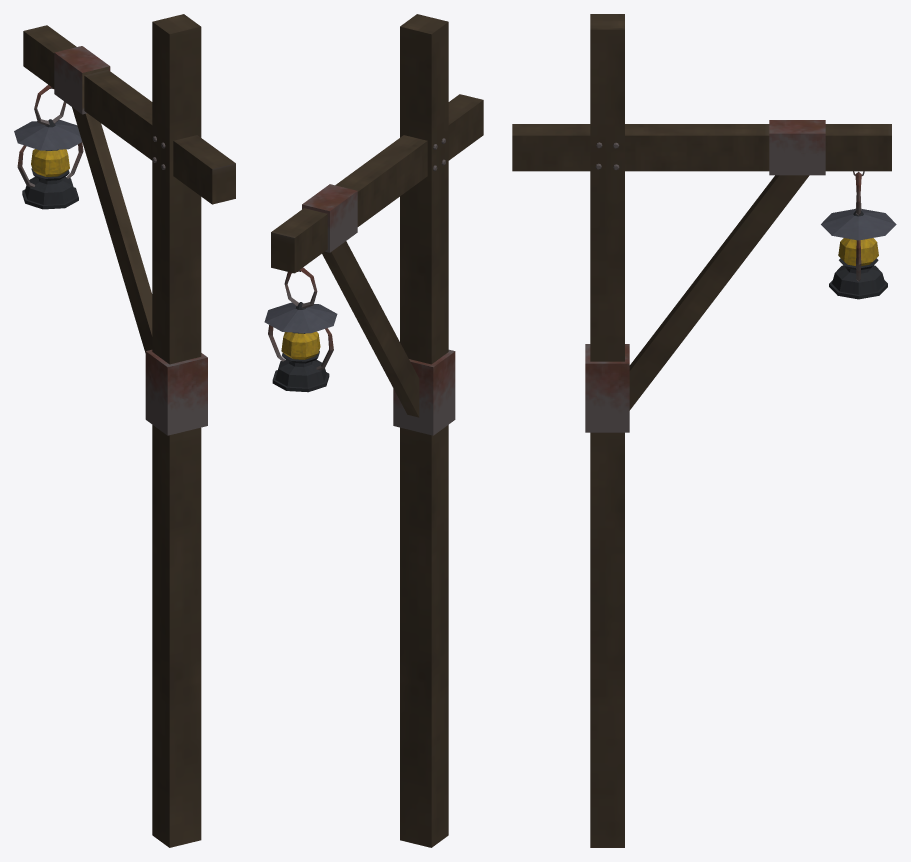
The model's file is LightPost.fbx.
The picture shows the model from 3 angles, left to right: view 1: azimuth 30°, elevation 25°; view 2: azimuth 150°, elevation 25°; view 3: azimuth 270°, elevation 25°; orthographic projection.
Parts seen in each view (by area): view 1: LightPost; view 2: LightPost; view 3: LightPost.
Boxes of the visible parts, left/top/right/bottom form: LightPost: left=14, top=14, right=235, bottom=847; LightPost: left=264, top=14, right=483, bottom=847; LightPost: left=512, top=14, right=896, bottom=847.
Bounding box in the file's own units: 53.76 × 633 × 269.
